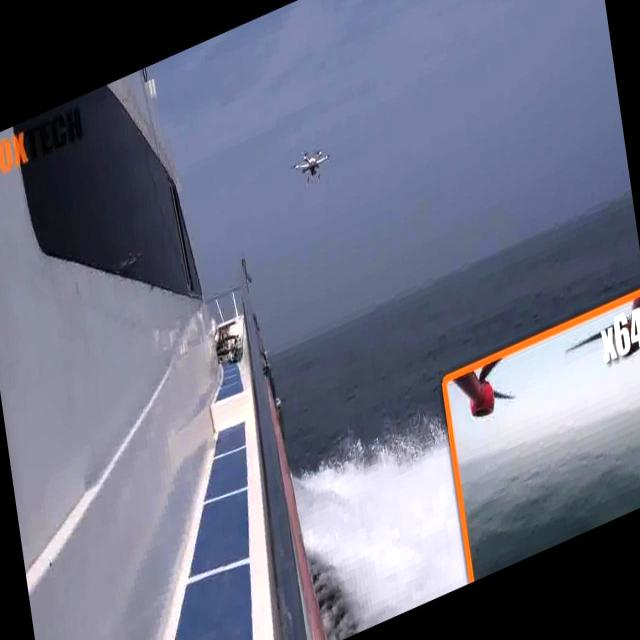drone: (284, 127, 339, 205)
